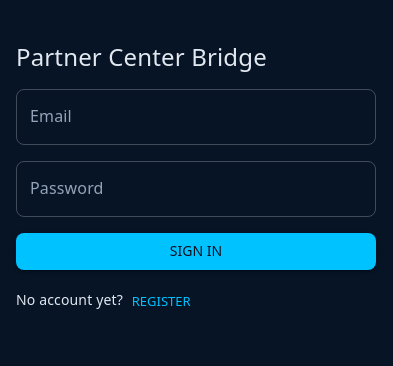
Test: Login › shows an error alert when sign-in fails
The image size is (393, 366).
Type "a@b.com" into the field labelled "Email". click: (196, 117)
box: [16, 89, 376, 145]
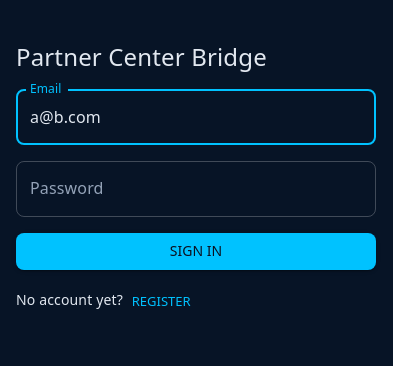
Type "wrong" into the password field labelled "Password". click: (196, 189)
box: [16, 161, 376, 217]
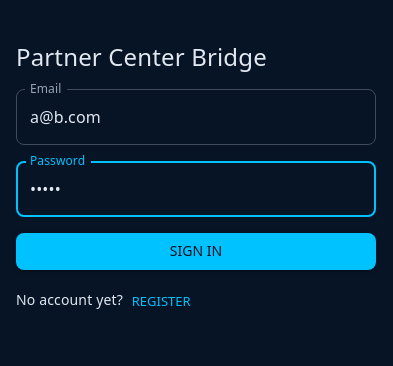
Click the button "Sign in". click: (196, 252)
box: [16, 233, 376, 270]
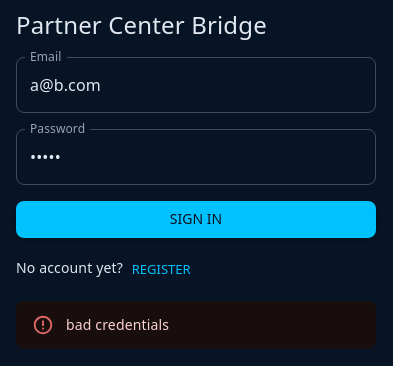
Check: the text "bad credentials" is shown, box [66, 315, 169, 334]
